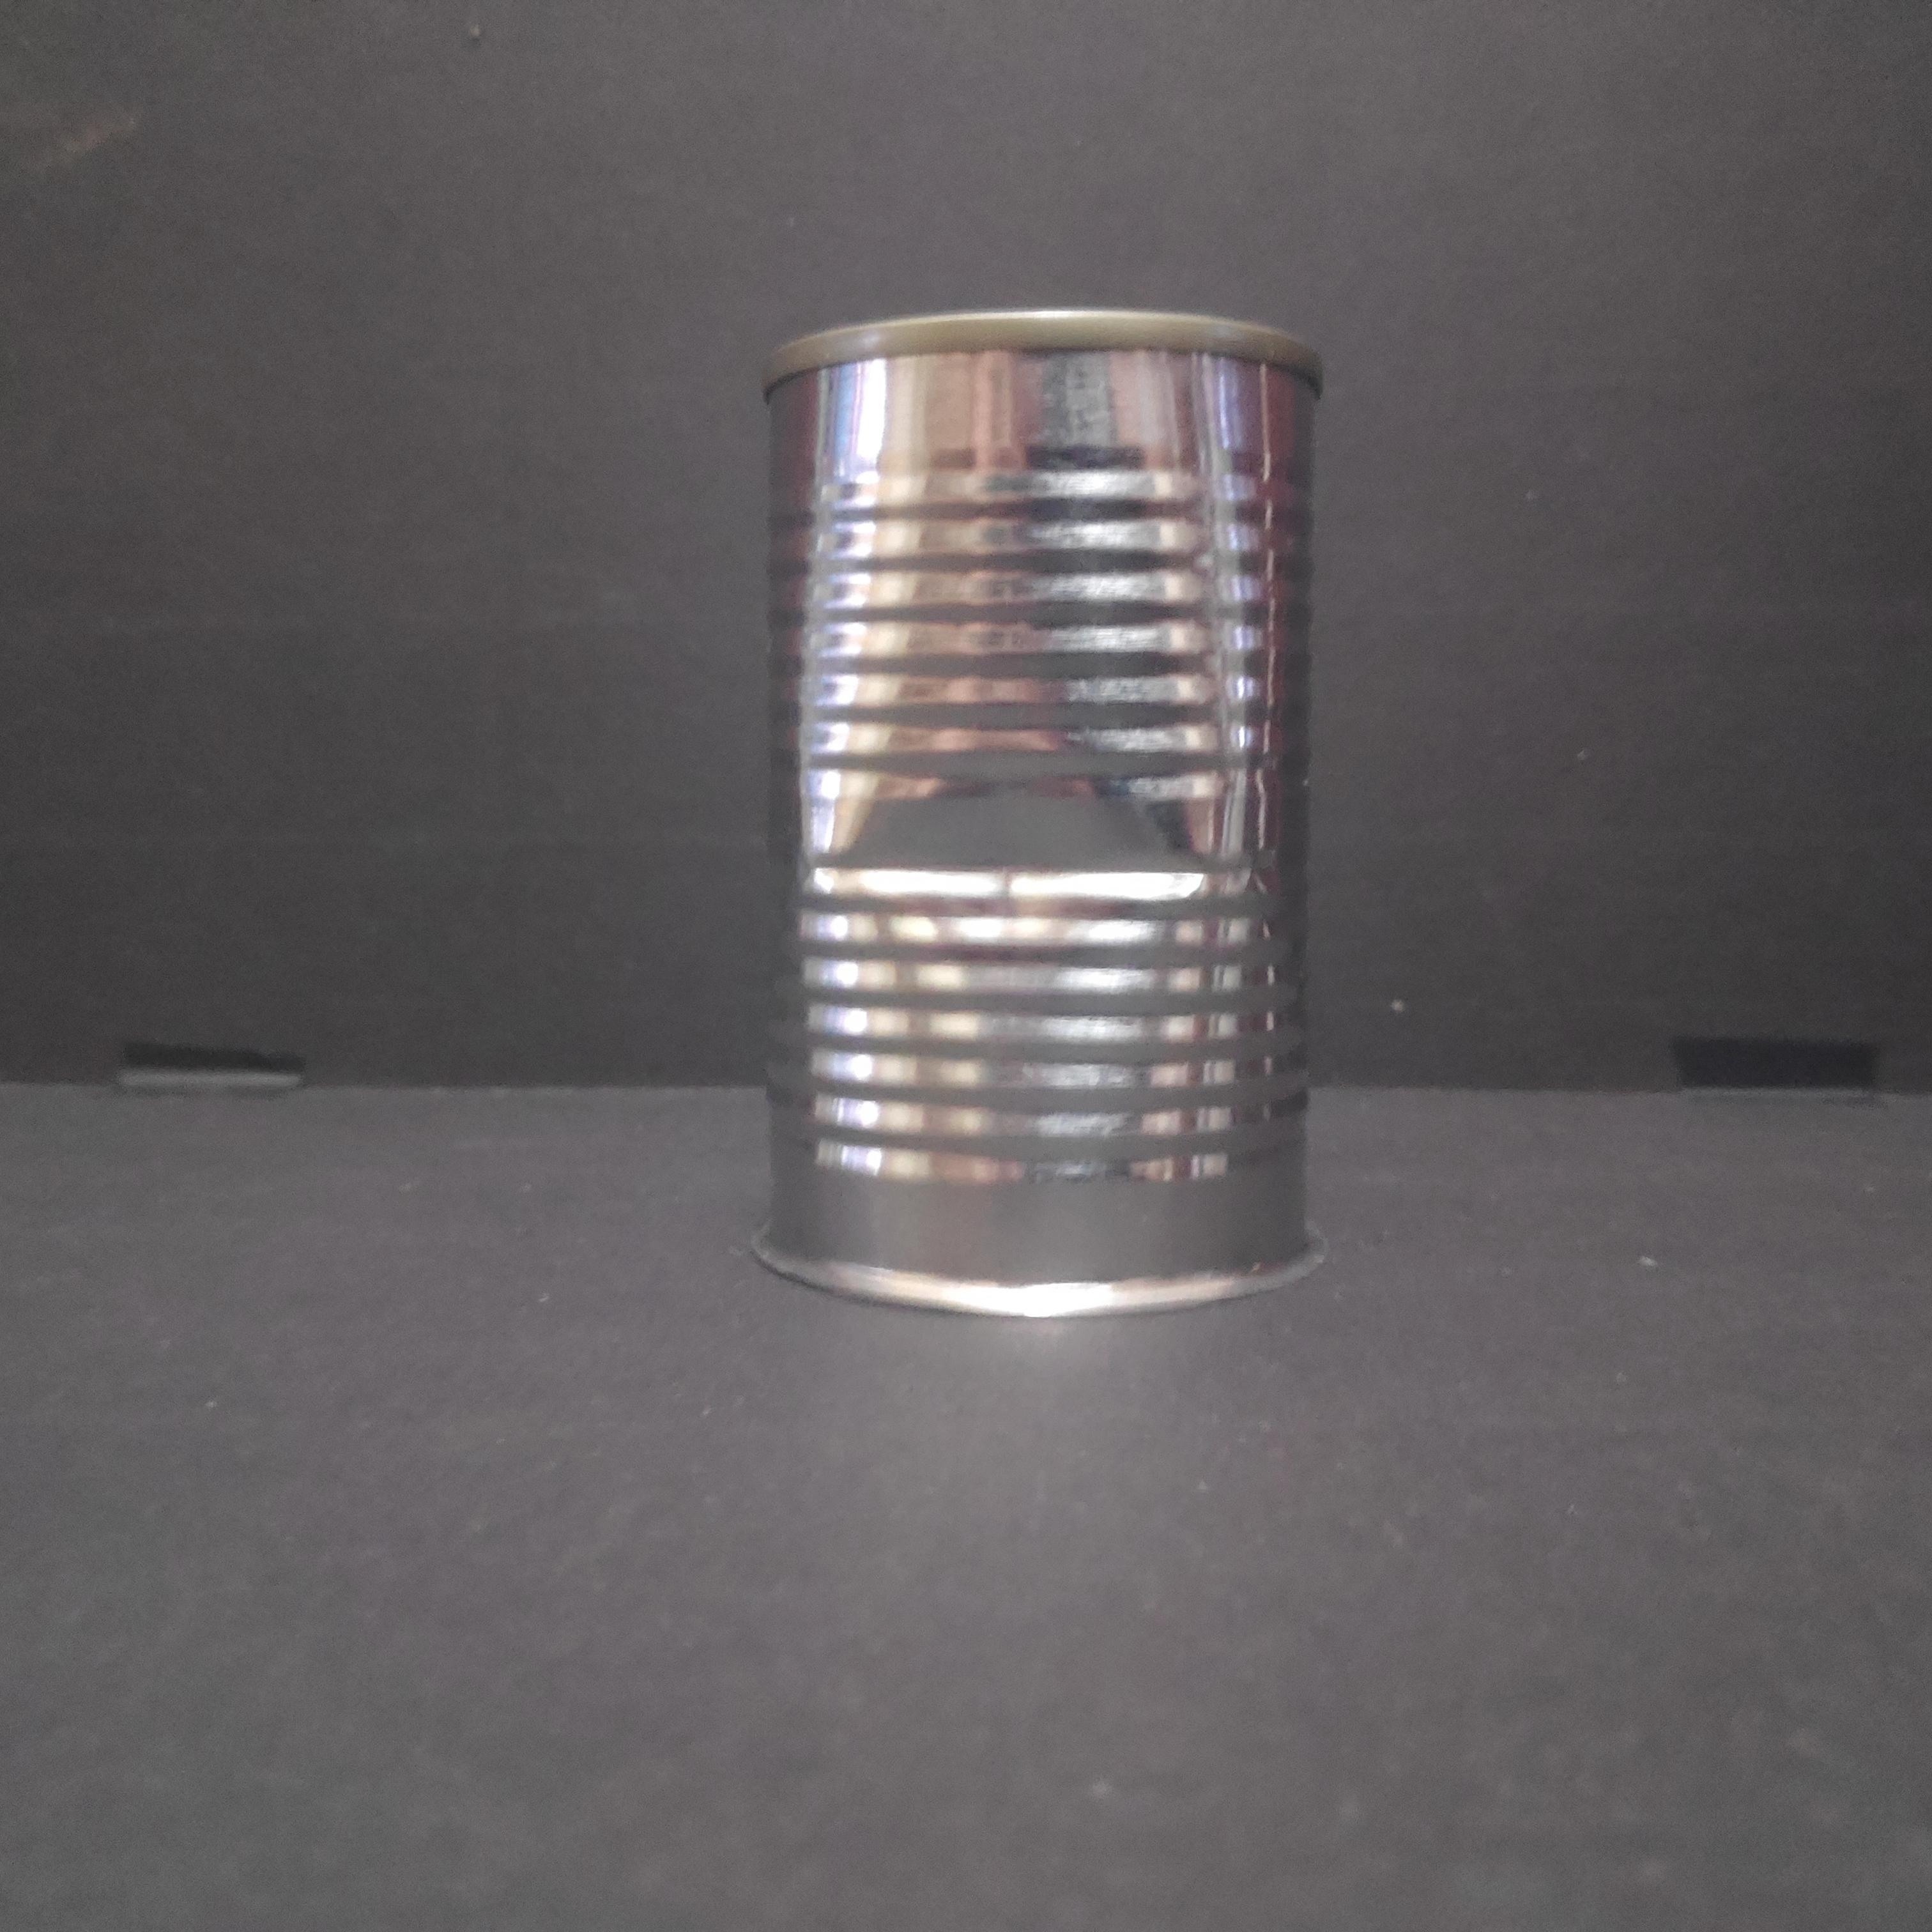Dented: (731, 271, 1341, 1341)
